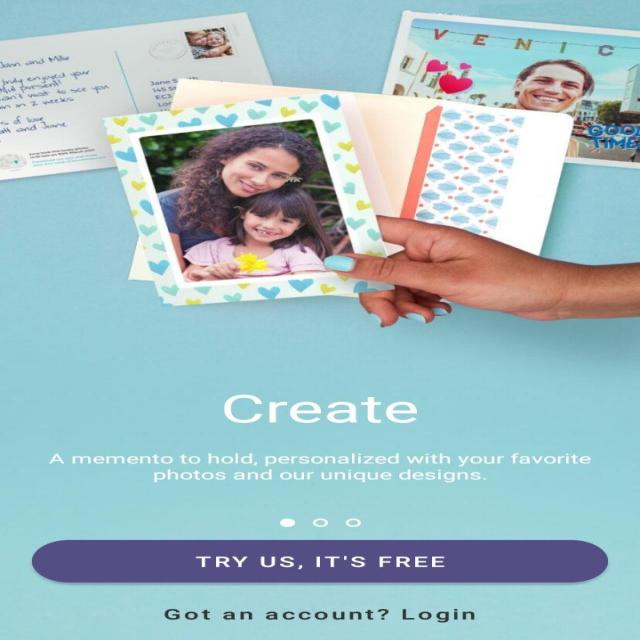BackgroundImage: (0, 0, 639, 639)
Image: (0, 11, 639, 330)
Text: (48, 452, 590, 483), (223, 393, 417, 424), (163, 608, 474, 623)
TextButton: (31, 538, 608, 582)
